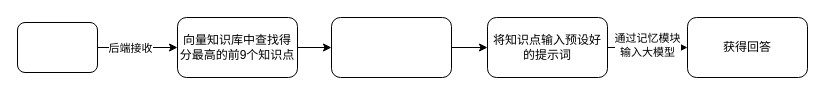
This 825x95 diagram has some shape labels left out. The shapes that lost their labels are listed below. From the top down, each one's box as (x1, y1, x2, y2) in pixels, then its label:
(16, 22, 98, 72): 用户输入
(330, 16, 452, 78): 将知识点与问题交给重排序模型，依照得分返回三个知识点
